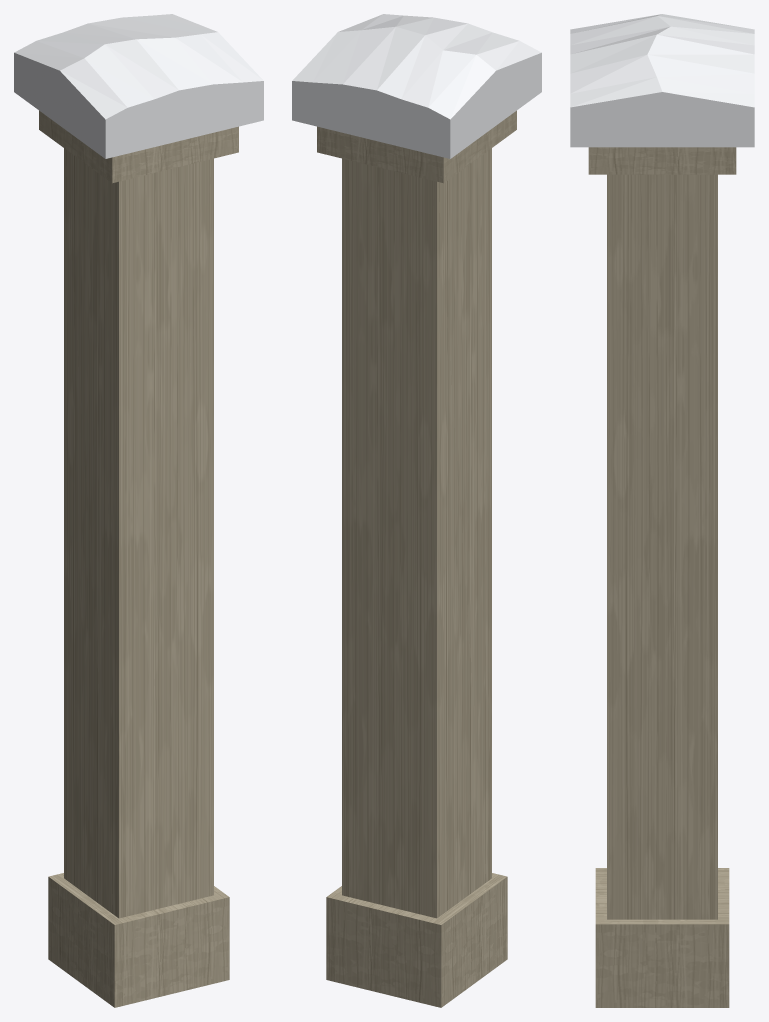
The model's file is fence_two_rail_post_snow.glb.
3 views of the same model, side by side, from view 1: azimuth 30°, elevation 25°; view 2: azimuth 150°, elevation 25°; view 3: azimuth 270°, elevation 25° (orthographic).
Visible parts, largest first — view 1: canonical_base, snow_accumulation; view 2: canonical_base, snow_accumulation; view 3: canonical_base, snow_accumulation.
Part boxes in pixels (box(x1,y1,x2,y2)): canonical_base: box(39, 110, 238, 1007); snow_accumulation: box(14, 14, 263, 158); canonical_base: box(317, 110, 516, 1007); snow_accumulation: box(292, 14, 541, 158); canonical_base: box(588, 147, 736, 1007); snow_accumulation: box(570, 14, 754, 147).
Size of the model in its own units: 0.2 by 1.13 by 0.2.
2 materials, 1 textured.
